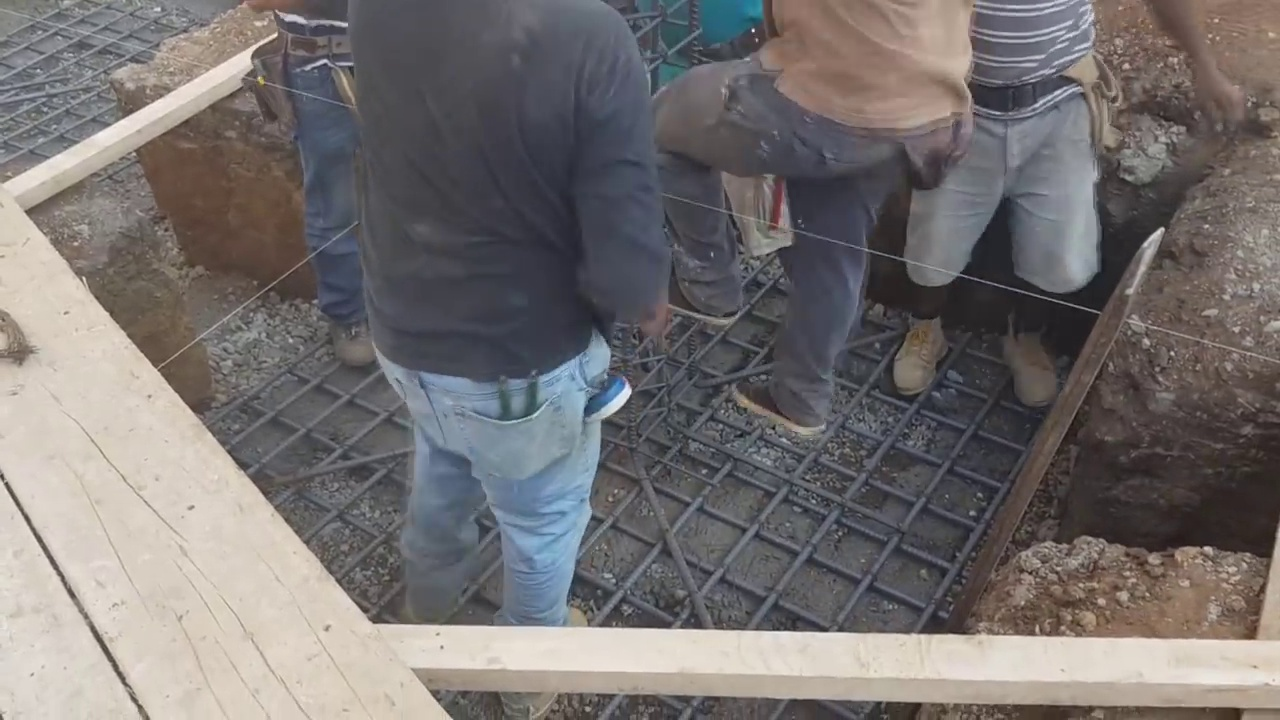person: (362, 11, 681, 644), (654, 5, 978, 410), (907, 3, 1120, 397), (240, 0, 371, 377)
